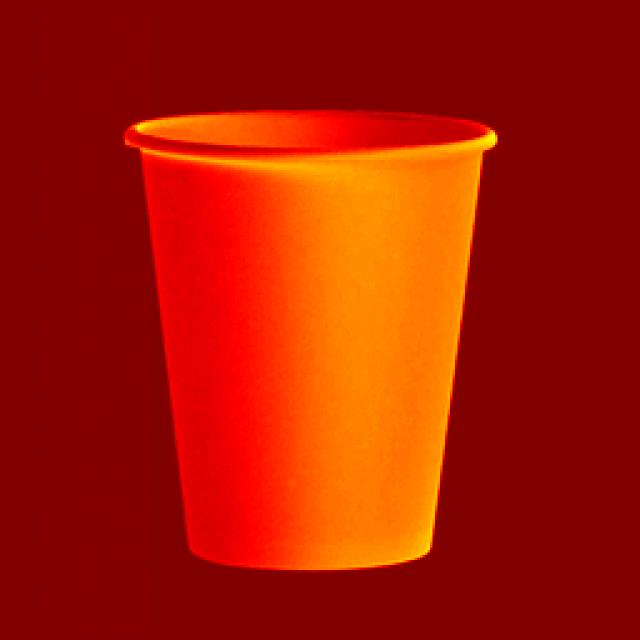Paper Cups: (123, 106, 504, 603)
